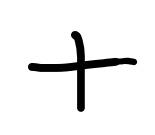plus: (28, 30, 137, 112)
